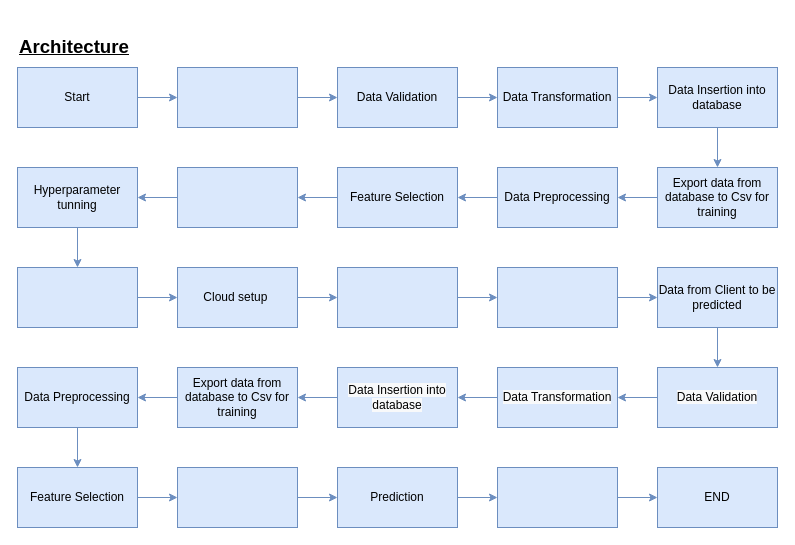
Some shapes in this 795 by 545 pixel diagram are drawn without their labels. The shapes that lost their labels are listed below. From the top down, each one's centre as x and y in pixels, then its label:
At (x=237, y=97): "Data batch for training".
At (x=237, y=197): "Selection of model".
At (x=77, y=297): "model saving".
At (x=397, y=297): "Pushing app to cloud".
At (x=557, y=297): "Application Start".
At (x=237, y=497): "call saved model".
At (x=557, y=497): "Export Prediction to csv".
